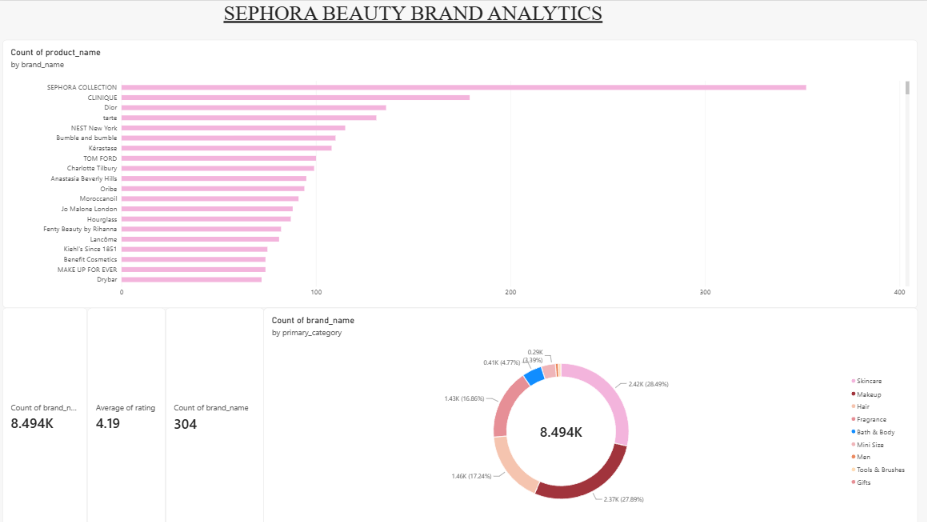

What the dashboard file says about the page in this screenshot:
{"tool":"powerbi","page":{"name":"Page 1","canvas":[1920,1080],"ordinal":0},"visuals":[{"type":"clusteredBarChart","fields":{"Category":["beauty_products_analysis (1).brand_name"],"Y":["CountNonNull(beauty_products_analysis (1).product_name)"]},"box":[10.3,80.3,1883.4,551.6],"z":0},{"type":"cardVisual","fields":{"Data":["CountNonNull(beauty_products_analysis (1).brand_name)"]},"box":[10,631.7,175,448.7],"z":1000},{"type":"cardVisual","fields":{"Data":["Avg(beauty_products_analysis (1).rating)"]},"box":[185,631.7,160.5,448.7],"z":2000},{"type":"cardVisual","fields":{"Data":["Count(beauty_products_analysis (1).brand_name)"]},"box":[345.8,631.9,203.8,450.8],"z":3000},{"type":"donutChart","fields":{"Category":["beauty_products_analysis (1).primary_category"],"Y":["CountNonNull(beauty_products_analysis (1).brand_name)"]},"box":[547.5,631.9,1346.1,448.7],"z":4000},{"type":"textbox","box":[1795,80,125,1000],"z":5000},{"type":"textbox","box":[100.9,0,1508.8,80.3],"z":6000}]}

Visuals, with their boxes in screenshot pixels (x1, y1, x2, y2), scaled from the page's 1920x1080 canvas onto the 927x522 screenshot:
clusteredBarChart - beauty_products_analysis (1).brand_name x CountNonNull(beauty_products_analysis (1).product_name): left=5, top=39, right=914, bottom=305
cardVisual - CountNonNull(beauty_products_analysis (1).brand_name): left=5, top=305, right=89, bottom=521
cardVisual - Avg(beauty_products_analysis (1).rating): left=89, top=305, right=167, bottom=521
cardVisual - Count(beauty_products_analysis (1).brand_name): left=167, top=305, right=265, bottom=521
donutChart - beauty_products_analysis (1).primary_category x CountNonNull(beauty_products_analysis (1).brand_name): left=264, top=305, right=914, bottom=521
textbox: left=867, top=39, right=926, bottom=521
textbox: left=49, top=0, right=777, bottom=39
